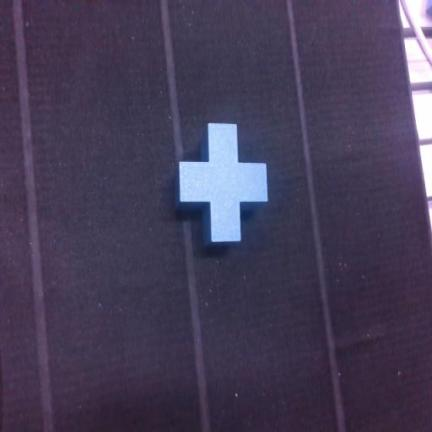cross: (178, 124, 267, 243)
